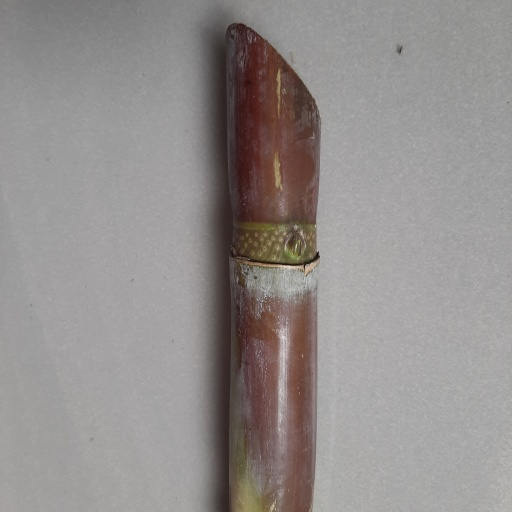Bud: (287, 231, 306, 258)
